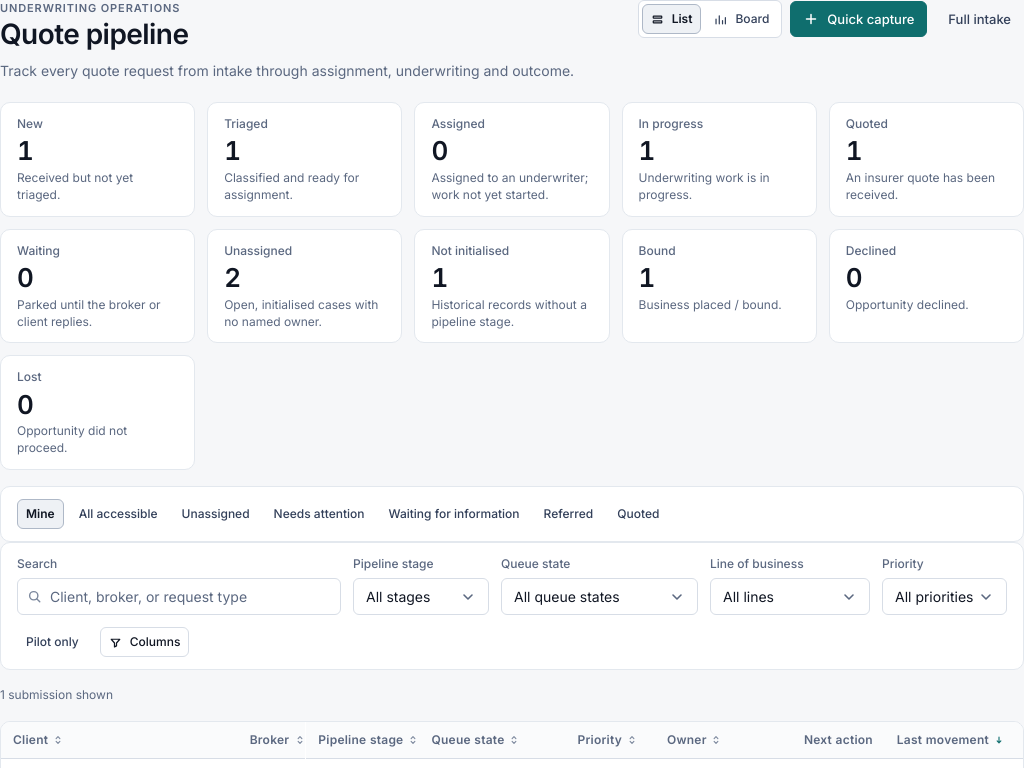
Test case: QuickCapture › does not create when required fields are missing
Expected: the heading "Quote pipeline" is shown, [0,17,188,52]
Click the button "Quick capture". click: (859, 19)
box: [790,1,927,37]
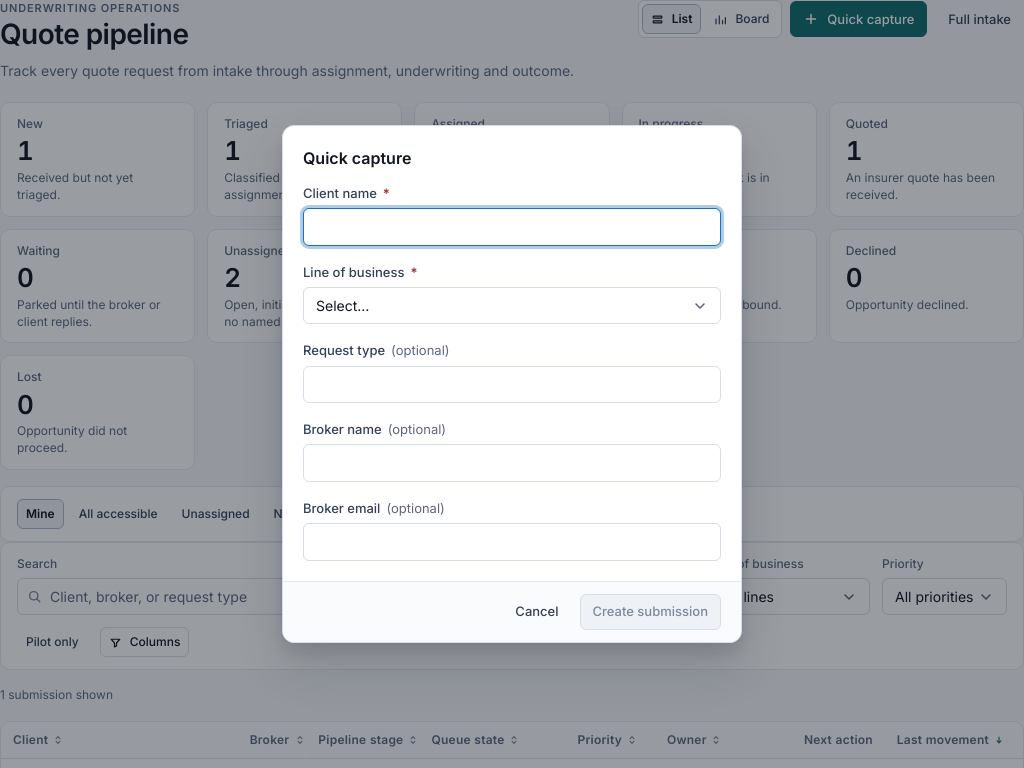
Result: the button "Create submission" is disabled at [580,594,721,630]
